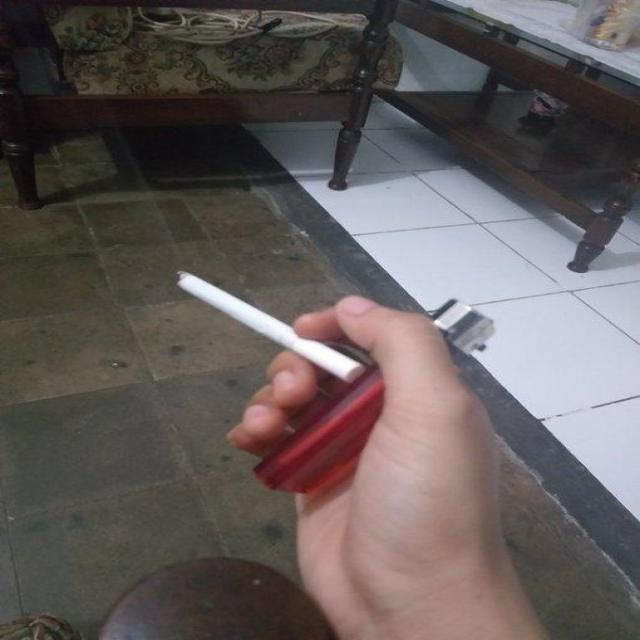rokok: (178, 267, 366, 379)
